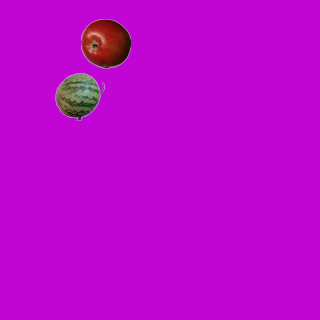Apple Braeburn: (80, 18, 130, 68)
Watermelon: (54, 71, 104, 121)
